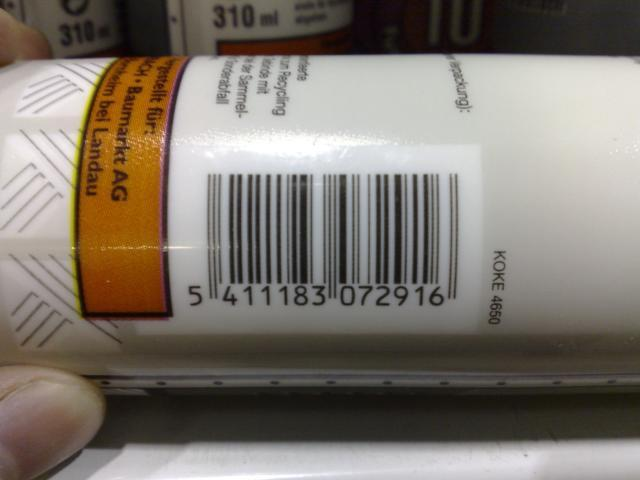Barcode: (177, 159, 471, 323)
